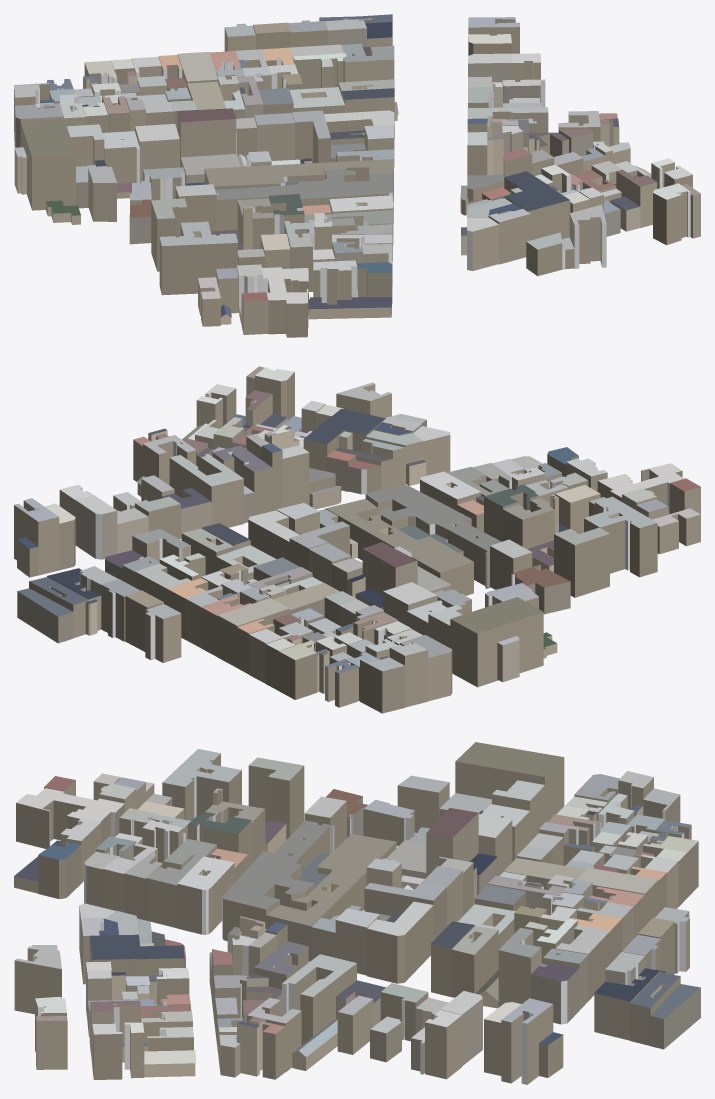
3 renders of one model, top to bottom at view 1: azimuth 30°, elevation 25°; view 2: azimuth 150°, elevation 25°; view 3: azimuth 270°, elevation 25°, orthographic. The views are drawn at different scales.
Visible parts, largest first — view 1: tuile; view 2: tuile; view 3: tuile.
Part boxes in pixels (left/top/right/bottom): tuile: left=14, top=14, right=700, bottom=337; tuile: left=14, top=366, right=700, bottom=713; tuile: left=14, top=742, right=700, bottom=1084.
Size of the model in its own units: 263 by 37.12 by 271.
